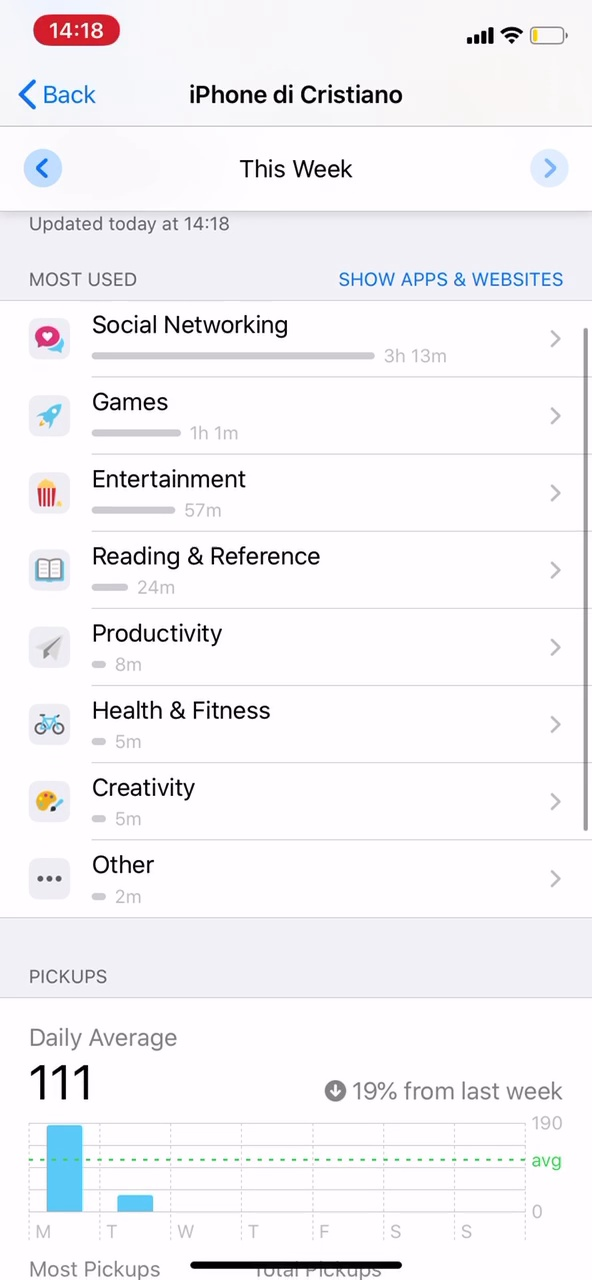week: (227, 144, 364, 185)
